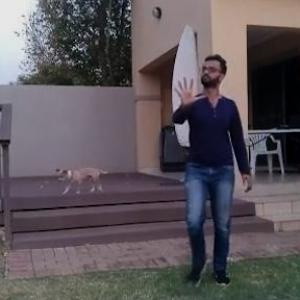follow_hand: (168, 72, 205, 110)
